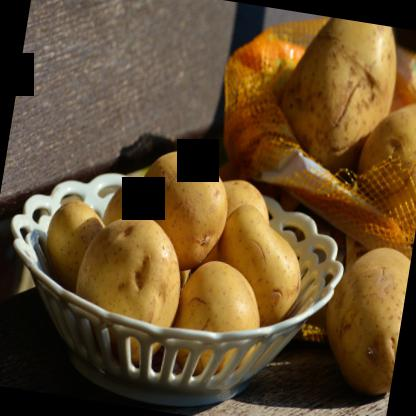potato: (272, 11, 404, 169), (312, 236, 411, 393), (70, 209, 188, 334), (203, 204, 309, 334), (127, 142, 233, 266), (168, 254, 266, 379), (346, 90, 415, 237), (39, 196, 110, 292)
